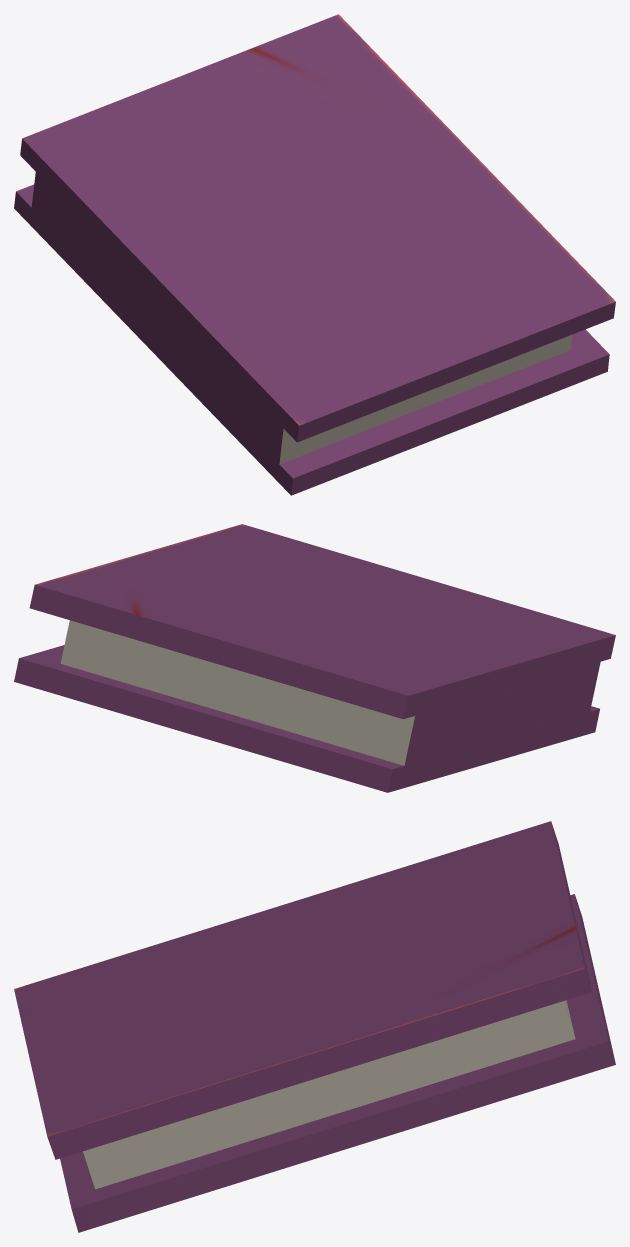
Rendered from putple book.fbx.
The picture shows the model from 3 angles, top to bottom: view 1: azimuth 30°, elevation 25°; view 2: azimuth 150°, elevation 25°; view 3: azimuth 270°, elevation 25°; orthographic projection. The views are drawn at different scales.
Parts seen in each view (by area): view 1: polySurface10; view 2: polySurface10; view 3: polySurface10.
Part boxes in pixels (x1=…): polySurface10: x1=14, y1=14, x2=615, y2=495; polySurface10: x1=14, y1=524, x2=615, y2=792; polySurface10: x1=14, y1=821, x2=615, y2=1232.
Bounding box in the file's own units: 9.51 × 5.75 × 11.42.
